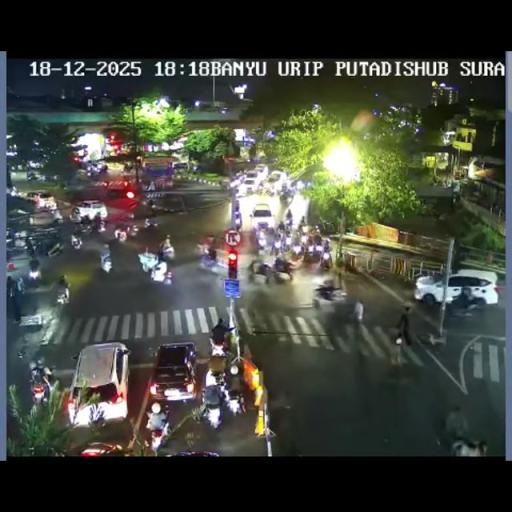Car: (66, 342, 130, 425), (414, 268, 500, 306), (148, 342, 198, 404), (70, 200, 107, 222), (248, 203, 274, 233), (105, 178, 138, 199), (78, 441, 126, 455), (26, 190, 56, 208), (264, 170, 286, 194), (240, 176, 262, 194), (252, 163, 269, 180)
Motorcycle: (65, 214, 175, 284), (7, 252, 70, 327), (253, 218, 331, 276), (442, 407, 486, 455), (206, 332, 233, 378), (200, 384, 226, 428), (385, 341, 414, 380), (146, 406, 170, 451), (313, 282, 348, 310), (28, 365, 50, 404), (419, 328, 447, 354), (248, 259, 273, 285), (223, 387, 243, 416), (5, 232, 29, 256), (272, 256, 294, 282), (148, 259, 169, 284), (56, 280, 70, 306), (46, 239, 65, 258), (270, 234, 285, 255), (99, 252, 113, 274), (353, 295, 364, 323), (89, 216, 105, 234), (158, 242, 174, 260), (289, 241, 304, 260), (320, 248, 332, 270), (28, 266, 41, 286), (114, 224, 128, 242), (85, 164, 101, 178), (70, 232, 82, 250), (206, 245, 218, 263), (144, 216, 158, 230), (126, 222, 139, 237), (282, 231, 293, 248), (53, 208, 63, 226), (16, 277, 26, 294), (219, 177, 230, 192), (313, 242, 324, 256), (299, 232, 309, 247), (122, 162, 134, 174), (26, 170, 38, 181), (276, 220, 286, 233), (8, 185, 18, 197), (17, 346, 27, 358), (285, 216, 293, 230), (146, 198, 154, 212), (234, 214, 242, 228), (295, 180, 306, 190), (299, 216, 306, 226), (102, 180, 108, 188)
